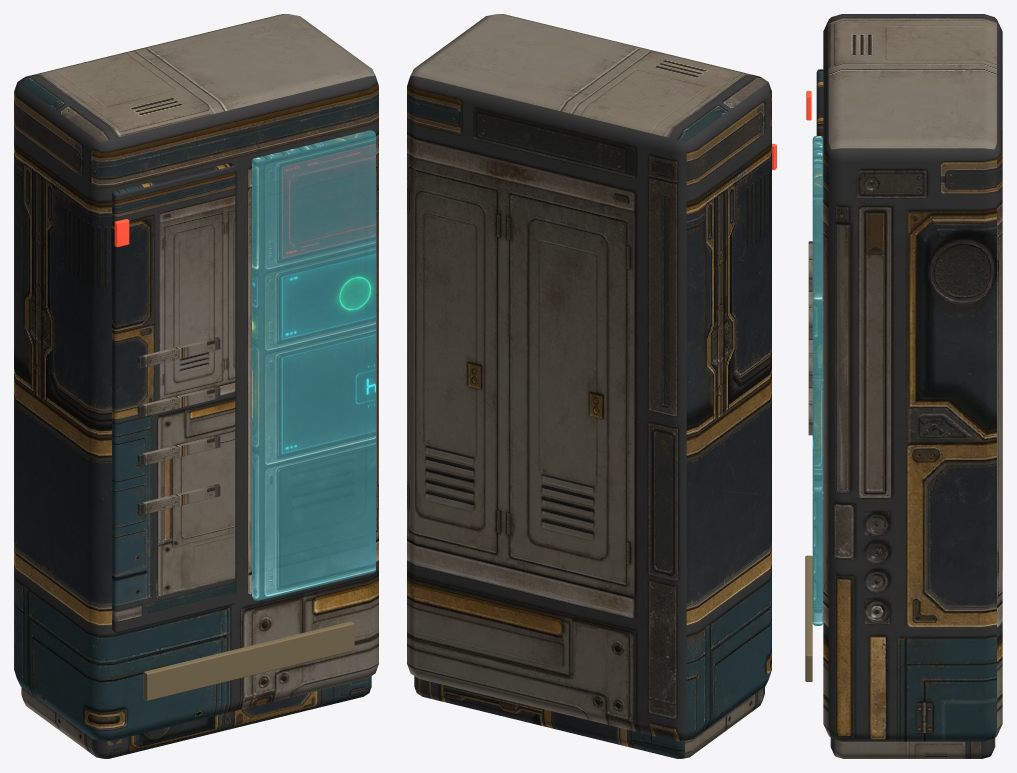
Rendered from hp_room_carekeeper_service_closet.glb.
3 views of the same model, side by side, from view 1: azimuth 30°, elevation 25°; view 2: azimuth 150°, elevation 25°; view 3: azimuth 270°, elevation 25° (orthographic).
Parts seen in each view (by area): view 1: tall_service_case, closet_vent_slit_0, right_exposed_service_bay_image2_screen, bottom_hazard_but_muted_gold_bar; view 2: tall_service_case, closet_vent_slit_0; view 3: tall_service_case, right_exposed_service_bay_image2_screen, closet_vent_slit_0, bottom_hazard_but_muted_gold_bar.
Part boxes in pixels (left/top/right/bottom): tall_service_case: left=14, top=14, right=378, bottom=741; closet_vent_slit_0: left=21, top=163, right=371, bottom=758; right_exposed_service_bay_image2_screen: left=252, top=130, right=375, bottom=600; bottom_hazard_but_muted_gold_bar: left=143, top=621, right=354, bottom=700; tall_service_case: left=407, top=14, right=771, bottom=741; closet_vent_slit_0: left=414, top=676, right=764, bottom=758; tall_service_case: left=823, top=14, right=1002, bottom=741; right_exposed_service_bay_image2_screen: left=812, top=136, right=823, bottom=625; closet_vent_slit_0: left=808, top=69, right=995, bottom=758; bottom_hazard_but_muted_gold_bar: left=805, top=555, right=812, bottom=681.
Size of the model in its own units: 1.2 by 2.5 by 0.7183.
6 materials, 3 textured.
